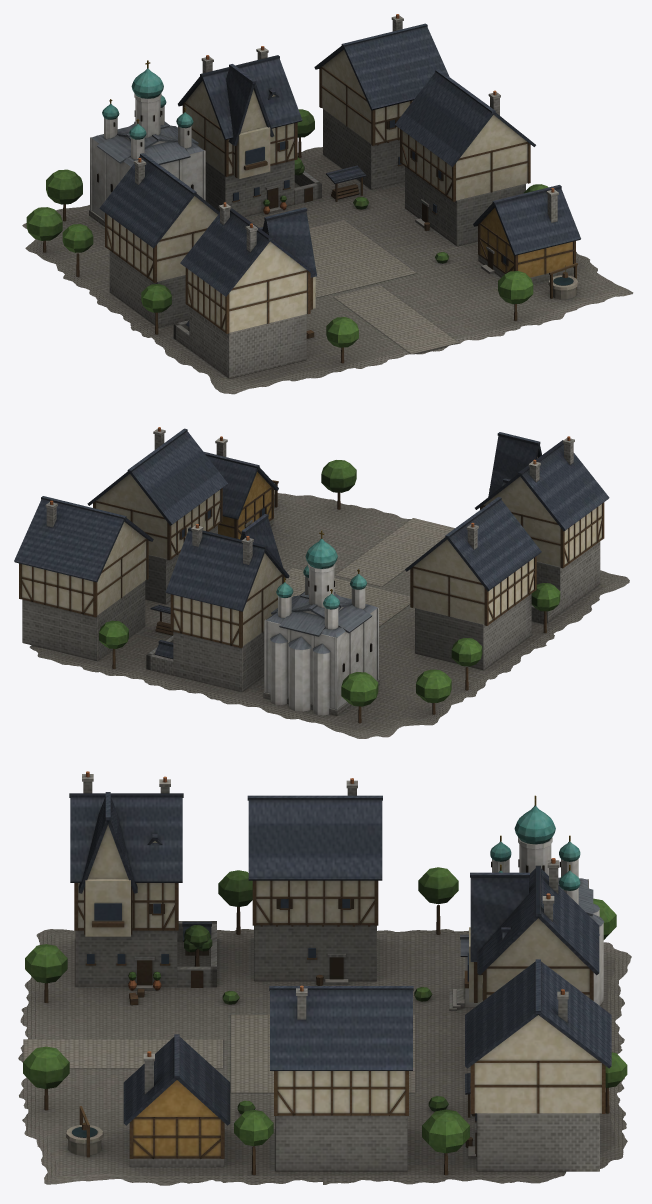
The model's file is kingdoms-town-small-a-easteurope.glb.
The picture shows the model from 3 angles, top to bottom: view 1: azimuth 30°, elevation 25°; view 2: azimuth 150°, elevation 25°; view 3: azimuth 270°, elevation 25°; orthographic projection. The views are drawn at different scales.
Visible parts, largest first — view 1: LOD0; view 2: LOD0; view 3: LOD0.
Part boxes in pixels (bbox=[...]): LOD0: bbox=[22, 14, 633, 394]; LOD0: bbox=[14, 427, 629, 738]; LOD0: bbox=[18, 771, 631, 1185].
Size of what is drawn, in the model's own units: 4.02 by 1.5 by 4.06.
Materials: 2 (2 with a texture image).
